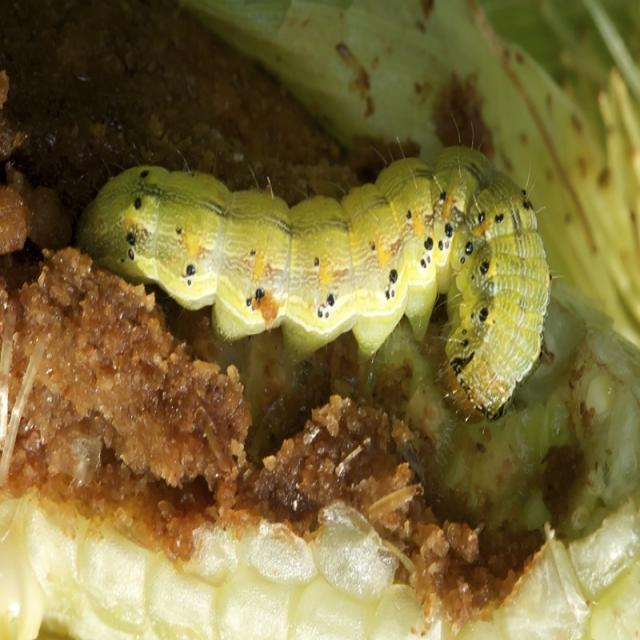Corn-earworm: (69, 132, 553, 423)
